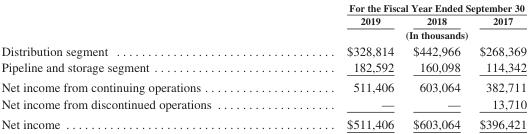table: (0, 1, 525, 130)
table column: (0, 1, 278, 130), (278, 1, 402, 130), (402, 1, 469, 130), (469, 1, 525, 130)
table column header: (0, 1, 525, 42)
table row: (0, 58, 525, 77), (0, 77, 525, 95), (0, 95, 525, 113), (0, 113, 525, 130), (0, 42, 525, 58), (0, 27, 525, 42), (0, 13, 525, 27), (0, 1, 525, 13)
table spanning cell: (278, 27, 525, 42), (278, 1, 525, 13)
